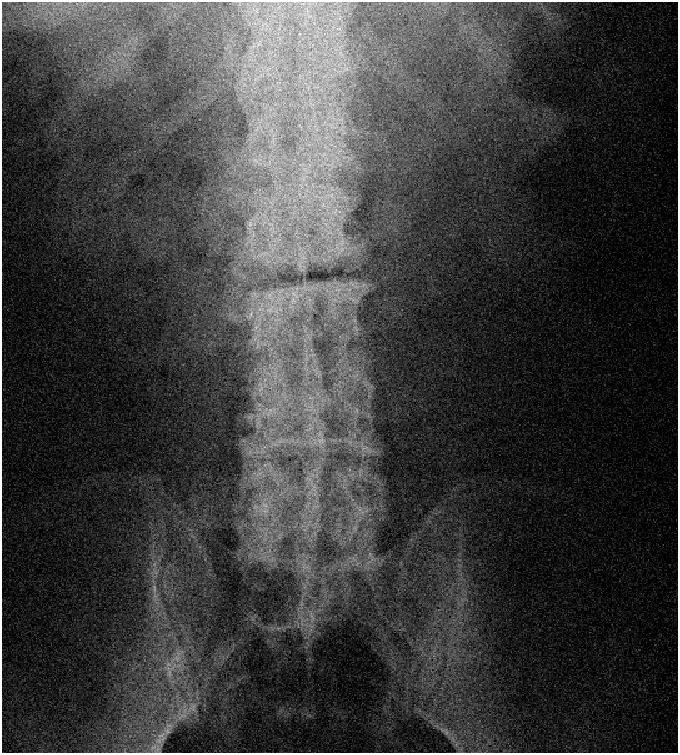lumbar scoliosis: (228, 213, 380, 556)
